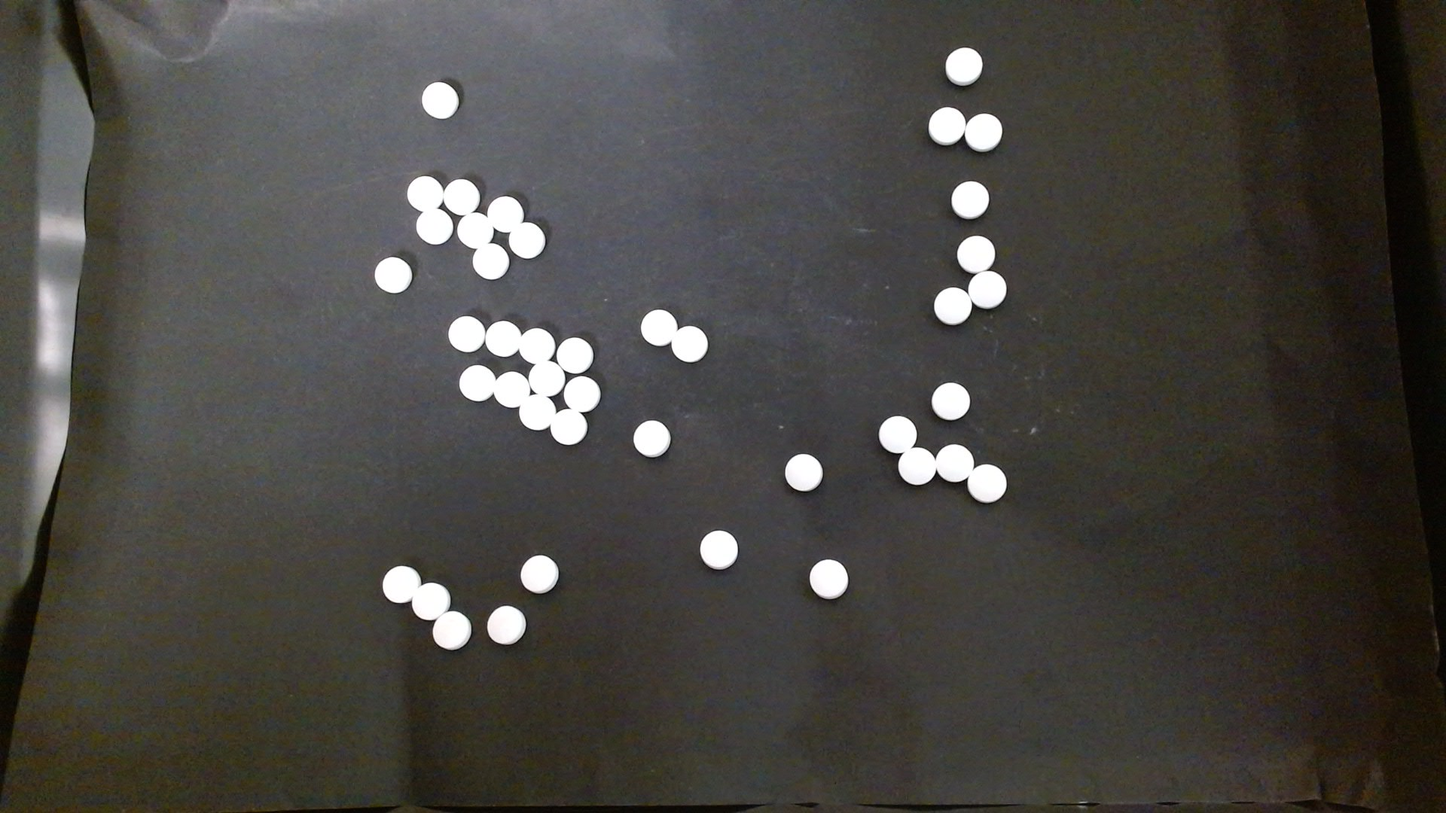Circle: (808, 558, 849, 599), (950, 179, 990, 221), (782, 452, 824, 492), (966, 464, 1007, 504), (698, 529, 739, 569), (381, 564, 422, 604), (486, 604, 526, 645), (927, 105, 967, 146), (520, 553, 560, 594), (931, 382, 971, 422), (632, 419, 672, 458), (968, 269, 1007, 309), (432, 610, 471, 650), (965, 111, 1003, 152), (944, 46, 983, 85), (956, 234, 995, 273), (374, 256, 413, 294), (411, 582, 450, 620), (421, 81, 459, 119), (878, 415, 916, 453), (935, 443, 973, 481), (934, 287, 972, 325), (898, 447, 935, 486), (518, 393, 555, 431), (406, 175, 443, 212), (416, 208, 453, 245), (493, 370, 530, 407), (508, 221, 545, 258), (556, 336, 593, 373), (447, 315, 484, 352), (458, 364, 496, 400), (549, 409, 587, 445), (563, 376, 600, 412), (640, 309, 676, 346), (457, 212, 493, 248), (671, 326, 707, 362), (473, 243, 508, 279), (488, 195, 523, 230), (519, 328, 554, 363), (529, 361, 564, 396), (486, 320, 520, 355), (444, 178, 477, 214)
